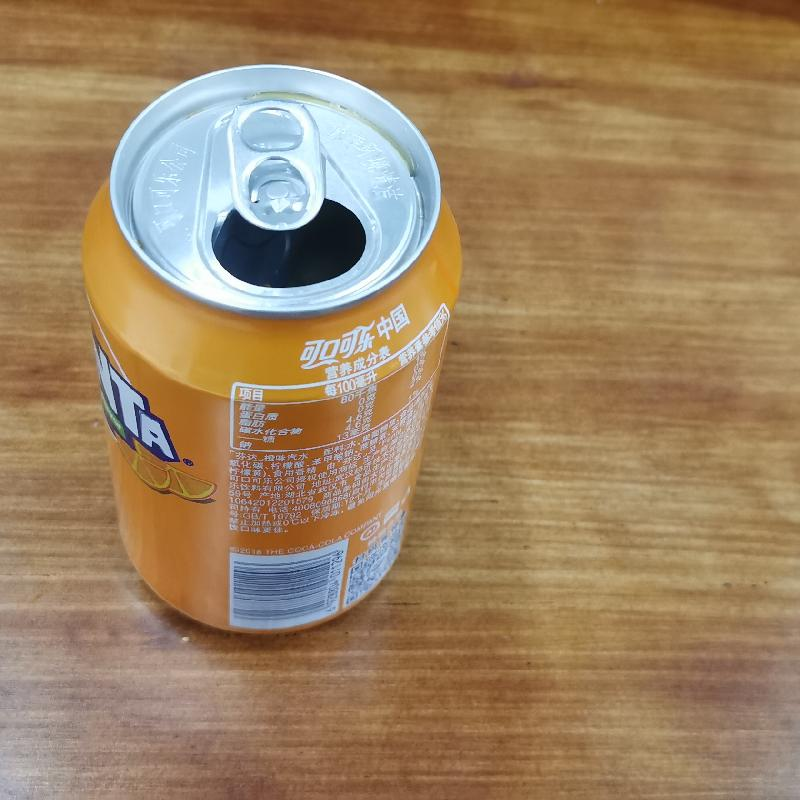cans: (81, 64, 463, 639)
